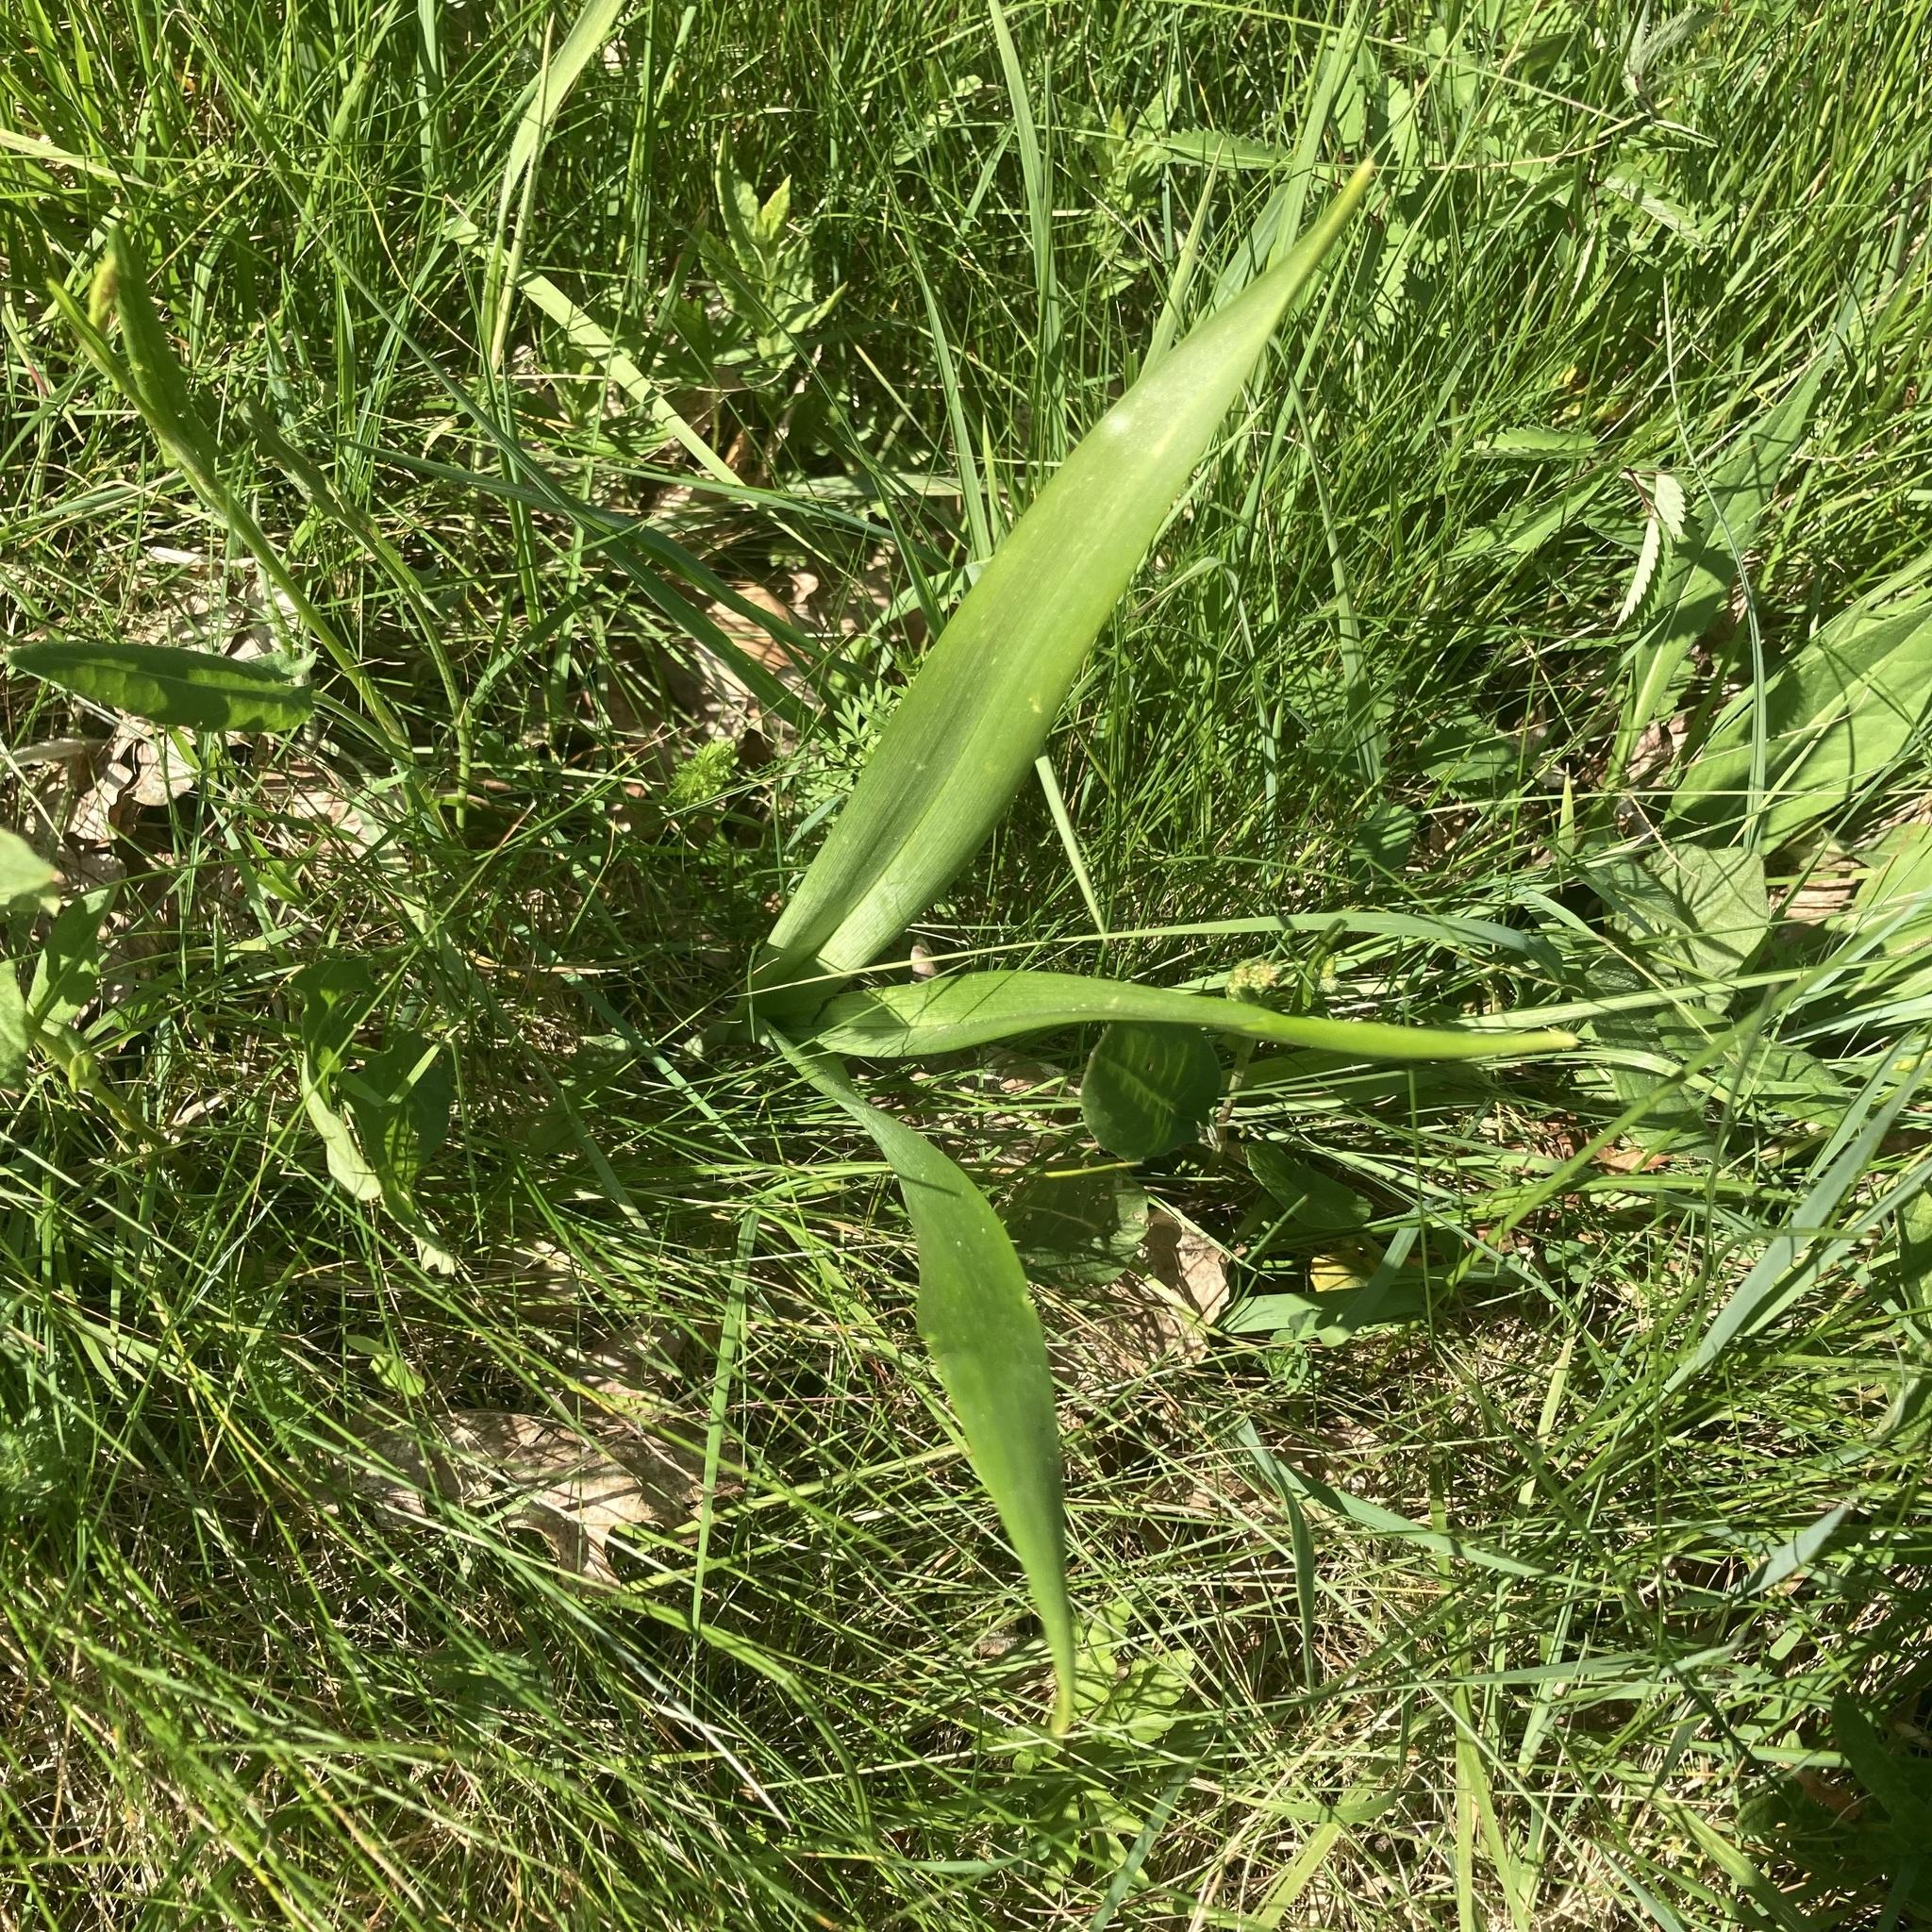Colchicum autumnale L: (732, 173, 1408, 1644)
